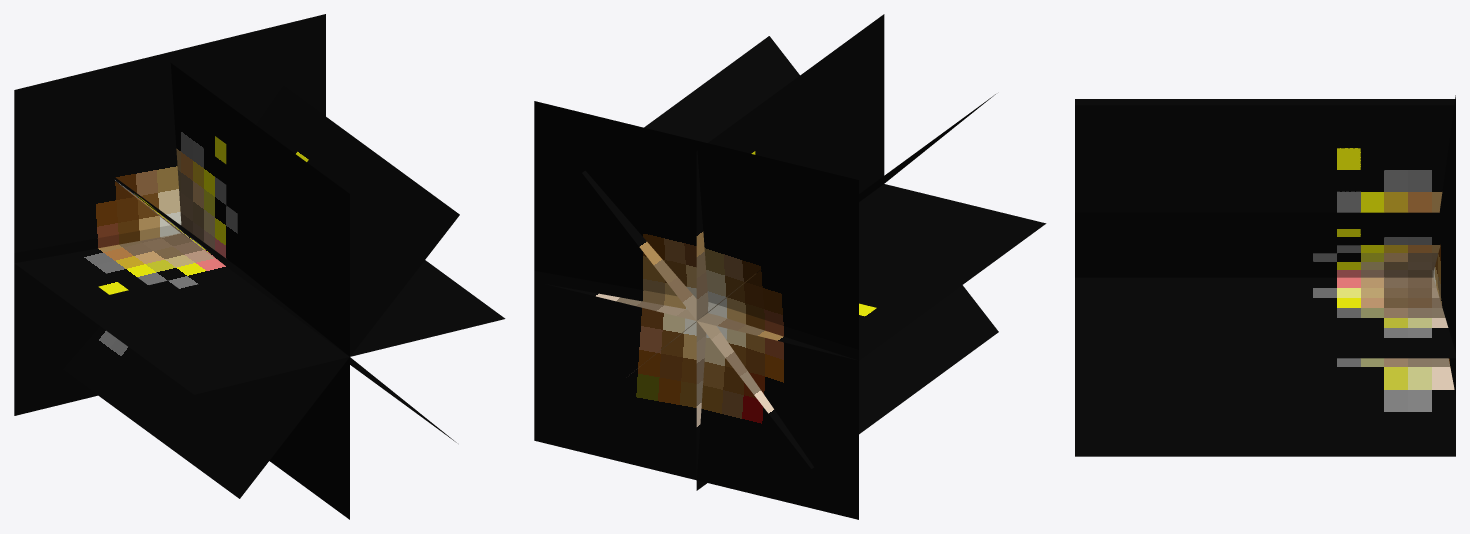
File: gunfire_mortar.obj
3 renders of one model, left to right at view 1: azimuth 30°, elevation 25°; view 2: azimuth 150°, elevation 25°; view 3: azimuth 270°, elevation 25°, orthographic. The views are drawn at different scales.
Visible parts, largest first — view 1: gunfire_mortar; view 2: gunfire_mortar; view 3: gunfire_mortar.
Boxes of the visible parts, x1,y1,x2,y2 form: gunfire_mortar: (14, 14, 505, 519); gunfire_mortar: (534, 14, 1046, 519); gunfire_mortar: (1075, 95, 1455, 456).
Bounding box in the file's own units: 1 × 1.03 × 1.
